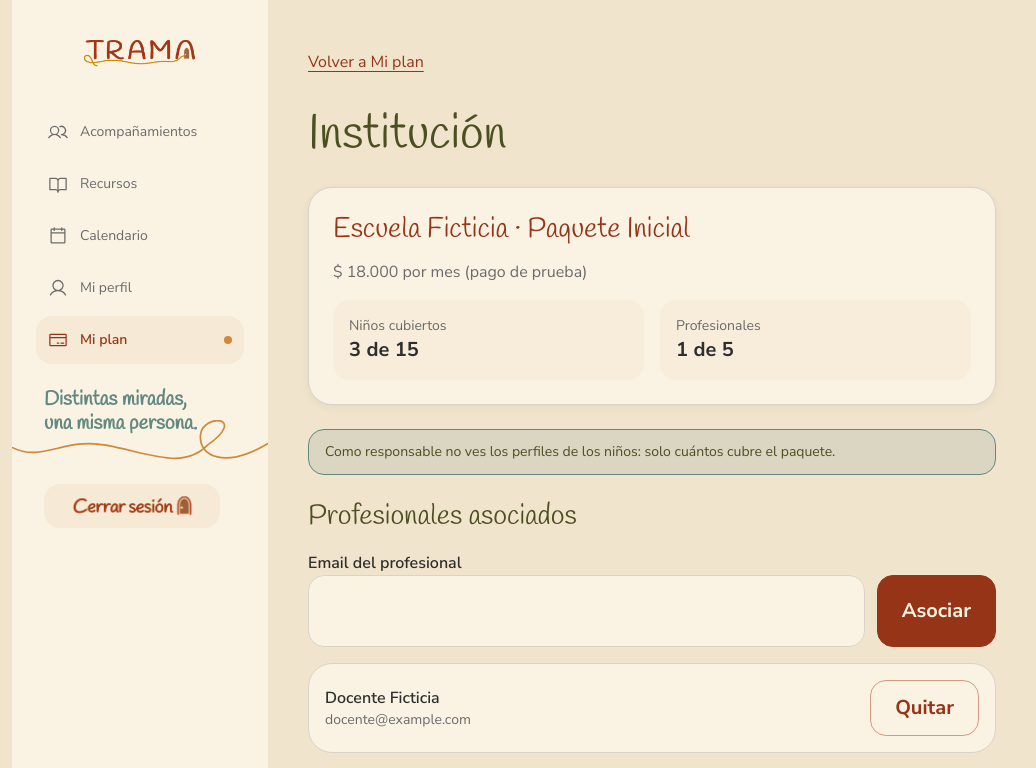
Scenario: 9.2: paquete institucional › quita a un profesional asociado
The width and height of the screenshot is (1036, 768).
Click the button with aria-label "Quitar a Docente Ficticia": (925, 708) [870,680,979,736]
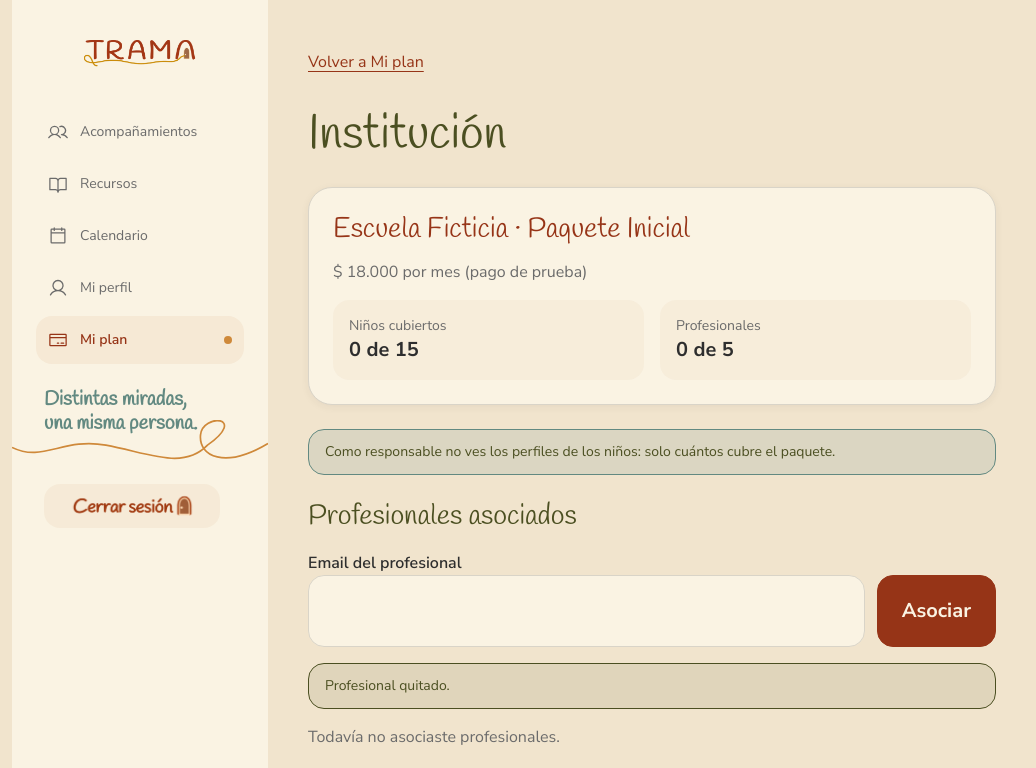
Result: the text "Todavía no asociaste profesionales." is shown at [308,726,560,748]
